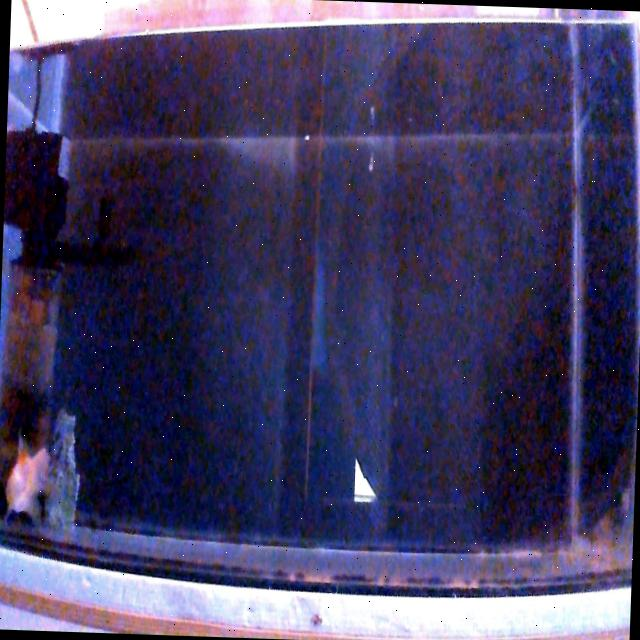fish: (5, 447, 48, 513)
